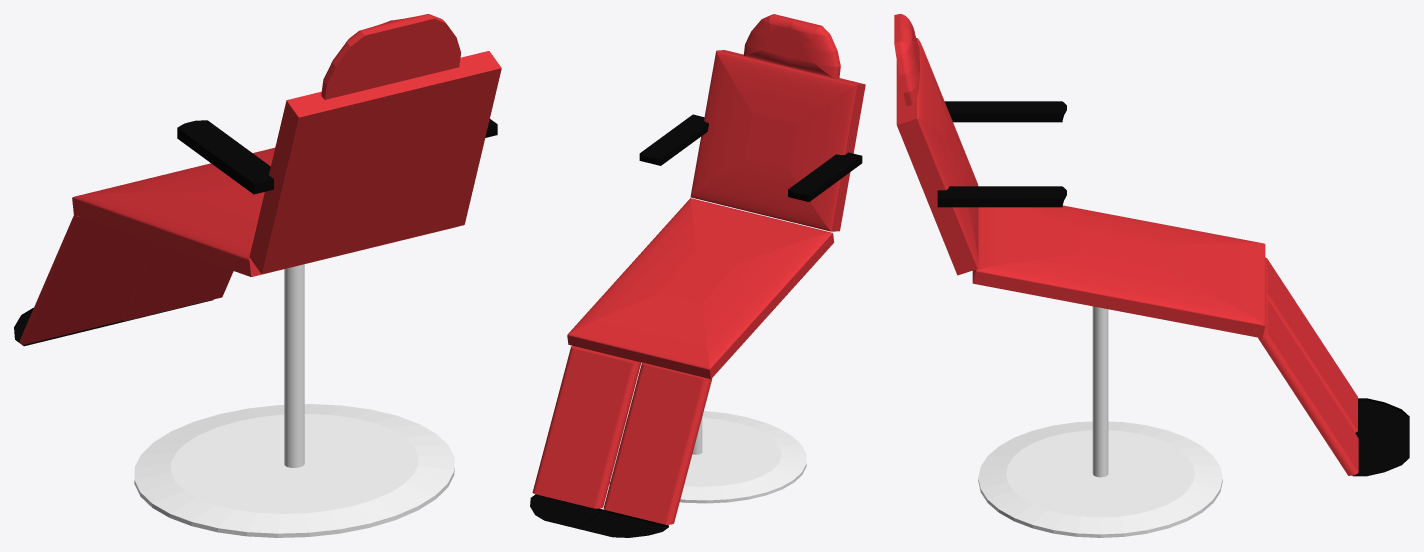
Rendered from Tattoo Seat.fbx.
3 views of the same model, side by side, from view 1: azimuth 30°, elevation 25°; view 2: azimuth 150°, elevation 25°; view 3: azimuth 270°, elevation 25° (orthographic). The views are drawn at different scales.
Parts seen in each view (by area): view 1: Cube.001, Circle.004, Cube, Cube.005, Cube.002, Cube.003, Cylinder.002, Cube.006, Cube.007; view 2: Cube, Cube.001, Cube.003, Cube.005, Circle.004, Cube.002, Cube.007, Cube.006, Cube.032; view 3: Cube, Circle.004, Cube.001, Cube.003, Cube.005, Cube.007, Cylinder.002, Cube.032, Cube.006, Cube.002.
Boxes of the visible parts, box(x1,y1,x2,y2) form: Cube.001: box(249, 51, 501, 274); Circle.004: box(134, 404, 454, 537); Cube: box(72, 147, 454, 276); Cube.005: box(19, 214, 154, 344); Cube.002: box(321, 14, 461, 99); Cube.003: box(122, 243, 233, 321); Cylinder.002: box(284, 264, 304, 467); Cube.006: box(177, 120, 273, 194); Cube.007: box(14, 299, 213, 346); Cube: box(567, 198, 834, 379); Cube.001: box(690, 50, 865, 231); Cube.003: box(532, 345, 641, 508); Cube.005: box(603, 362, 712, 524); Circle.004: box(609, 411, 806, 503); Cube.002: box(743, 14, 840, 78); Cube.007: box(530, 494, 668, 537); Cube.006: box(788, 152, 862, 201); Cube.032: box(639, 114, 708, 165); Cube: box(972, 205, 1265, 338); Circle.004: box(978, 421, 1222, 537); Cube.001: box(896, 38, 978, 275); Cube.003: box(1258, 299, 1358, 475); Cube.005: box(1265, 257, 1357, 432); Cube.007: box(1352, 398, 1409, 476); Cylinder.002: box(1092, 306, 1108, 477); Cube.032: box(937, 186, 1066, 207); Cube.006: box(944, 101, 1066, 122); Cube.002: box(894, 14, 919, 105).
Size of the model in its own units: 220 by 402 by 422.
